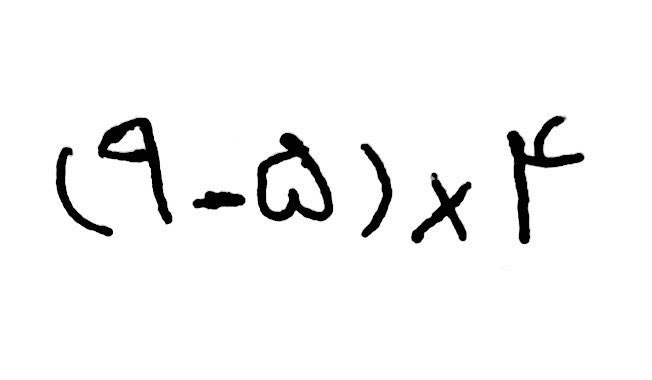character: (504, 116, 585, 245), (96, 115, 175, 224), (256, 131, 336, 228), (55, 147, 114, 238), (410, 173, 473, 245), (357, 141, 394, 239), (192, 191, 249, 211)
